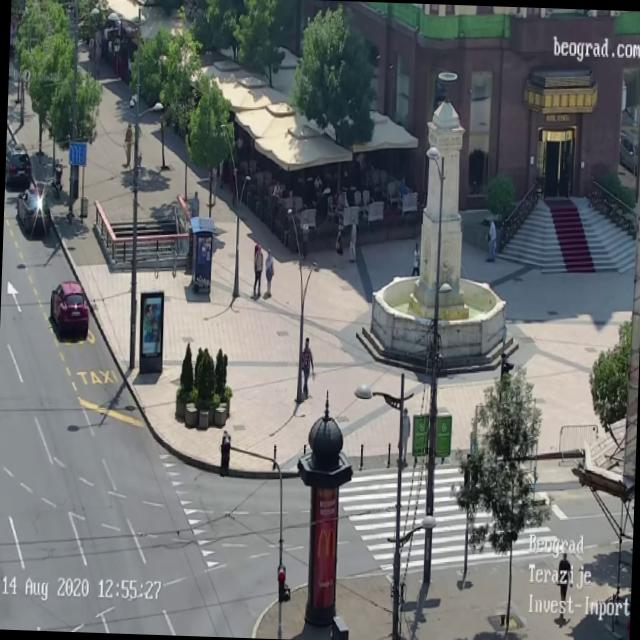car: (48, 279, 90, 338), (14, 180, 52, 237), (4, 140, 29, 190)
